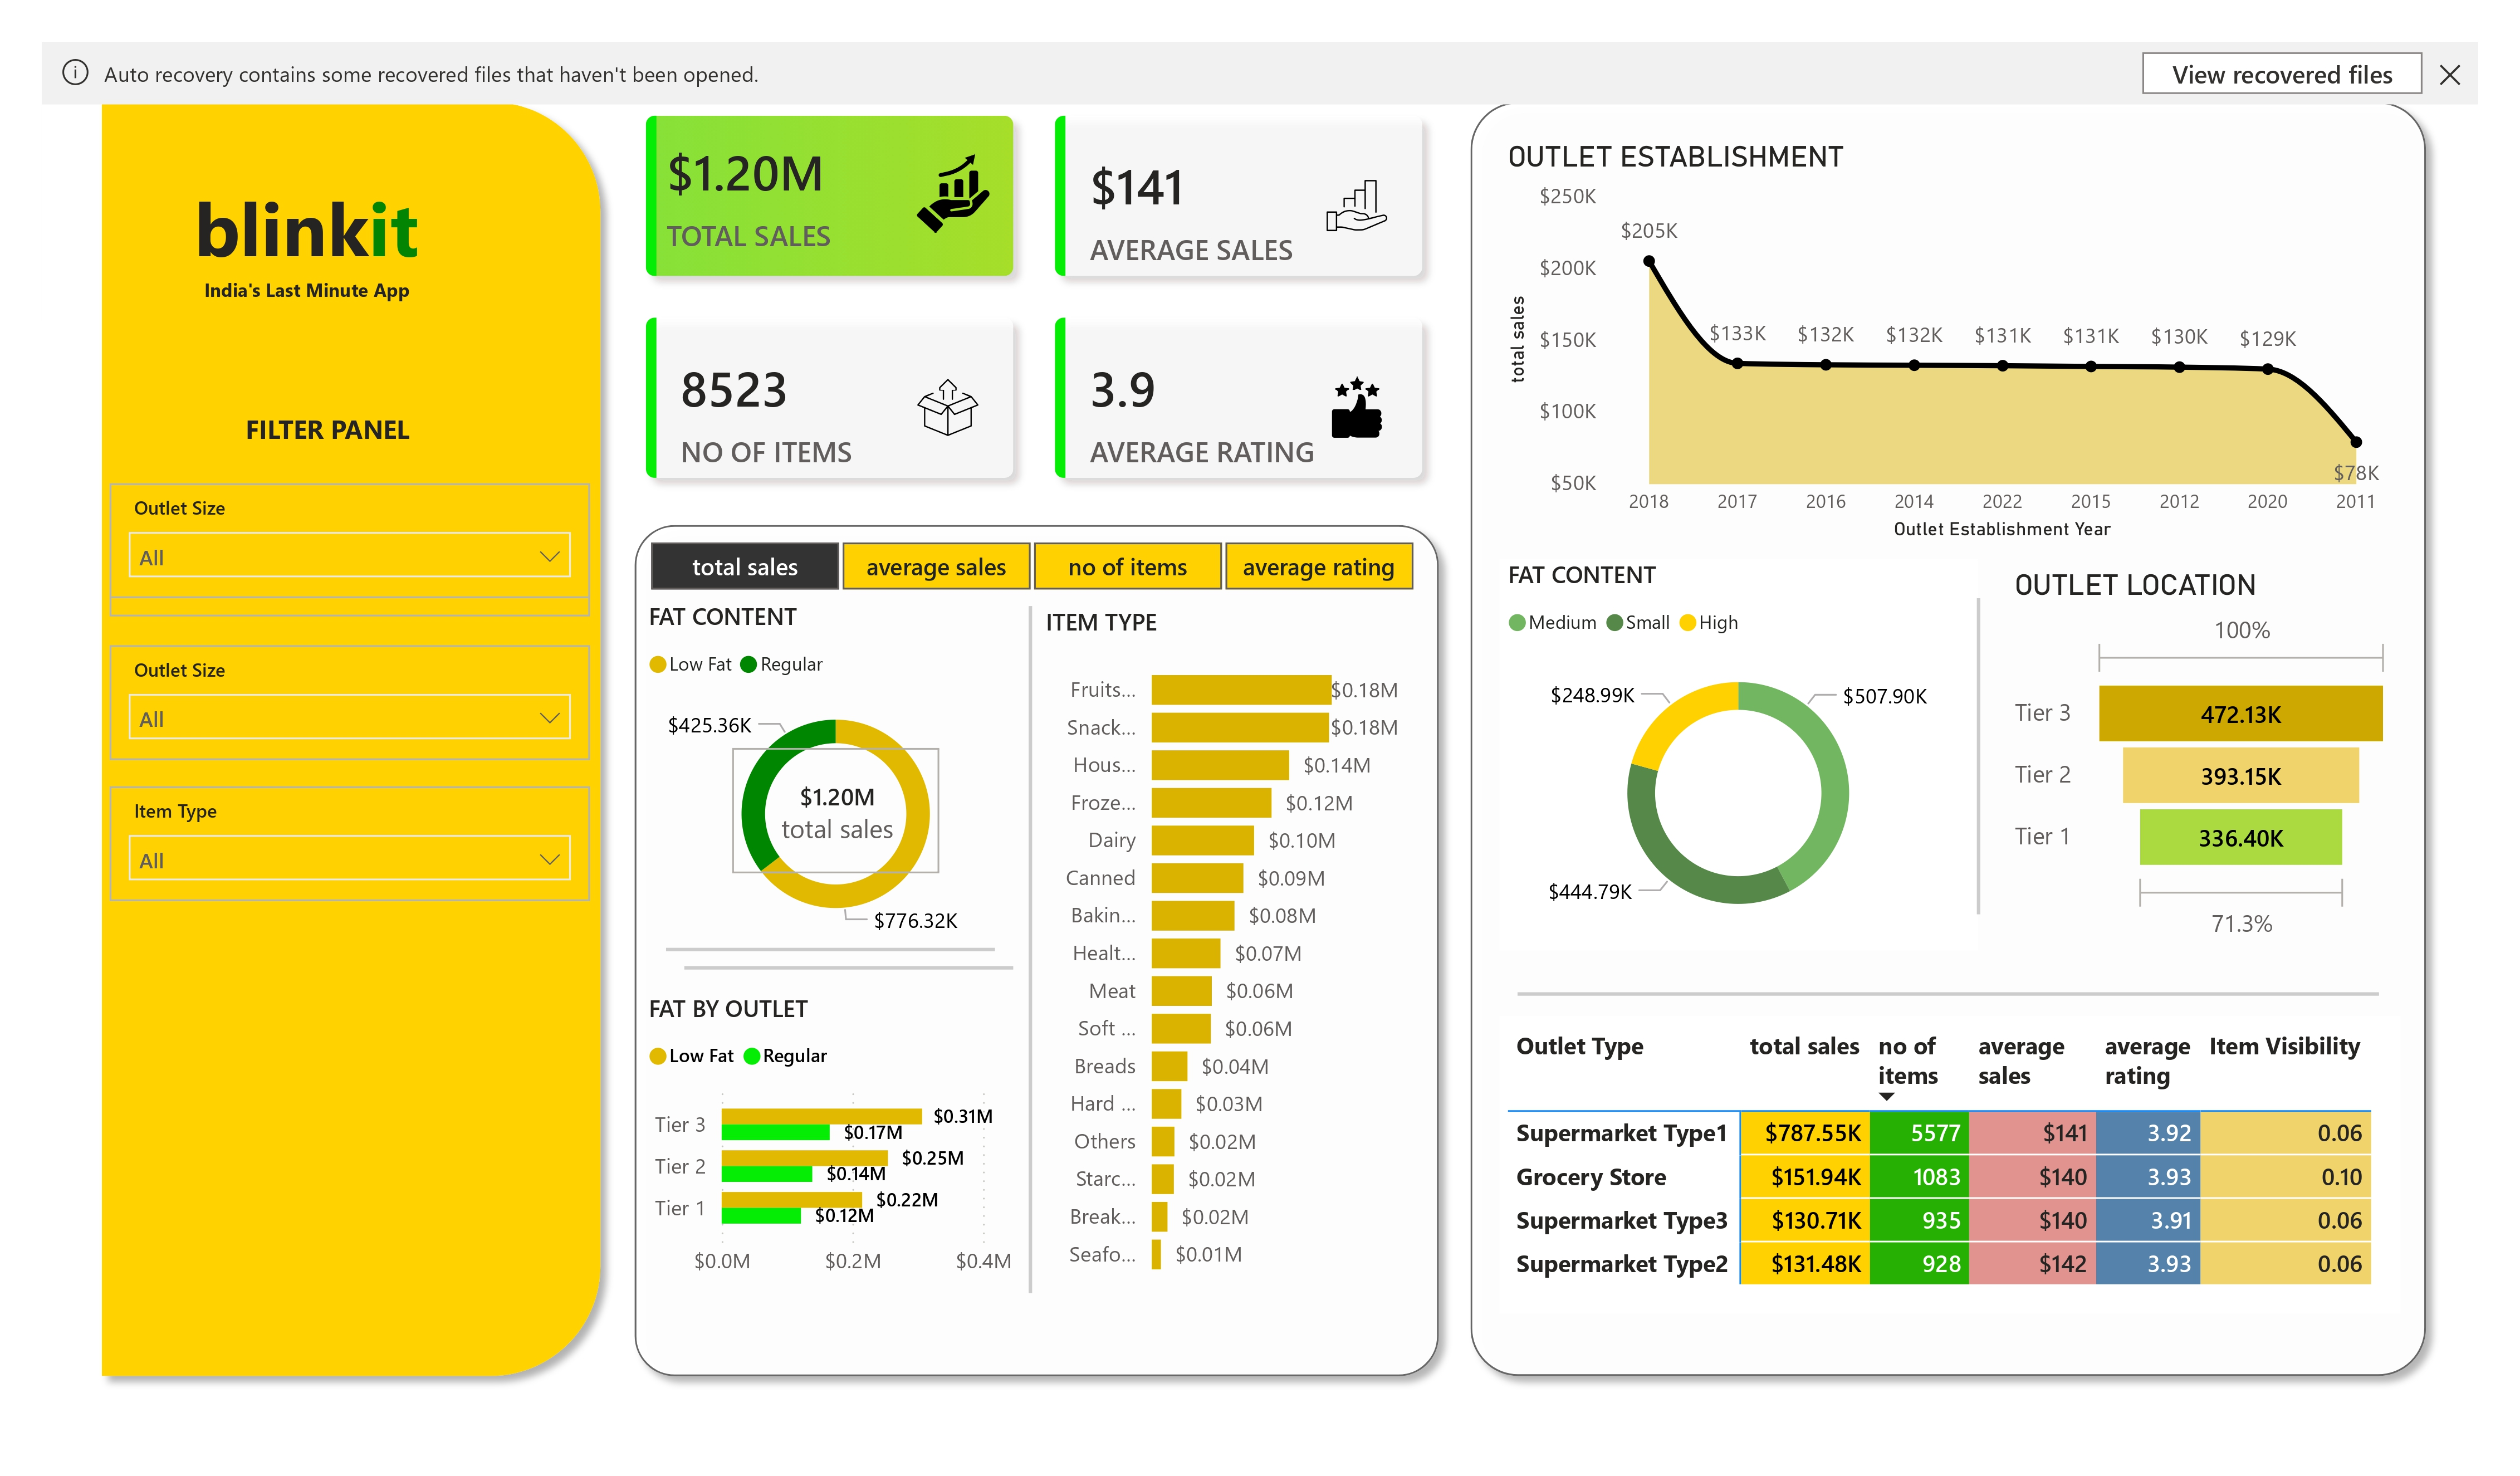

Layout of this report page (visuals, bound fields, positions):
{"tool":"powerbi","page":{"name":"Page 1","canvas":[1400,800],"ordinal":0},"visuals":[{"type":"shape","box":[25.5,25.5,304.7,750.4],"z":0},{"type":"textbox","box":[82.5,72,163.6,78],"z":1000},{"type":"textbox","box":[58.5,127.6,187.6,46.5],"z":2000},{"type":"cardVisual","fields":{"Data":["BlinkIT Grocery Data.total sales","BlinkIT Grocery Data.average sales","BlinkIT Grocery Data.no of items","BlinkIT Grocery Data.average rating"]},"box":[330.2,25.5,481.8,243.1],"z":3000},{"type":"shape","box":[331.7,268.7,480.3,507.3],"z":4000},{"type":"donutChart","title":"FAT CONTENT","fields":{"Y":["BlinkIT Grocery Data.total sales"],"Category":["BlinkIT Grocery Data.Item Fat Content"]},"box":[343.7,321.2,225.1,201.1],"z":5000},{"type":"slicer","fields":{"Values":["Metrics.Metrics"]},"box":[324.2,280.7,487.8,40.5],"z":6000},{"type":"cardVisual","fields":{"Data":["BlinkIT Grocery Data.total sales"]},"box":[391.7,400.7,129.1,82.5],"z":7000},{"type":"clusteredBarChart","title":"FAT BY OUTLET","fields":{"Y":["BlinkIT Grocery Data.total sales"],"Category":["BlinkIT Grocery Data.Outlet Location Type"],"Series":["BlinkIT Grocery Data.Item Fat Content"]},"box":[343.7,546.3,225.1,172.6],"z":8000},{"type":"shape","box":[358.7,483.3,189.1,76.5],"z":9000},{"type":"shape","box":[453.3,324.2,229.6,394.7],"z":10000},{"type":"barChart","title":"ITEM TYPE","fields":{"Y":["BlinkIT Grocery Data.total sales"],"Category":["BlinkIT Grocery Data.Item Type"]},"box":[571.8,324.2,213.1,394.7],"z":11000},{"type":"shape","box":[812,25.5,567.3,750.4],"z":12000},{"type":"lineChart","title":"OUTLET ESTABLISHMENT","fields":{"Y":["BlinkIT Grocery Data.total sales"],"Category":["BlinkIT Grocery Data.Outlet Establishment Year"]},"box":[837.5,55.5,517.8,235.6],"z":13000},{"type":"donutChart","title":"FAT CONTENT","fields":{"Y":["BlinkIT Grocery Data.total sales"],"Category":["BlinkIT Grocery Data.Outlet Size"]},"box":[837.5,297.2,274.7,225.1],"z":14000},{"type":"shape","box":[1064.1,319.7,97.6,181.6],"z":15000},{"type":"funnel","title":"OUTLET LOCATION","fields":{"Y":["Sum(BlinkIT Grocery Data.Sales)"],"Category":["BlinkIT Grocery Data.Outlet Location Type"]},"box":[1128.6,301.7,226.6,220.6],"z":16000},{"type":"shape","box":[848,534.3,495.3,25.5],"z":17000},{"type":"pivotTable","fields":{"Rows":["BlinkIT Grocery Data.Outlet Type"],"Values":["BlinkIT Grocery Data.total sales","BlinkIT Grocery Data.no of items","BlinkIT Grocery Data.average sales","BlinkIT Grocery Data.average rating","Avg(BlinkIT Grocery Data.Item Visibility)"]},"box":[837.5,559.8,517.8,171.1],"z":18000},{"type":"slicer","fields":{"Values":["BlinkIT Grocery Data.Outlet Location Type"]},"box":[39,264.2,276.2,66],"z":19000},{"type":"shape","box":[368.7,493.3,189.1,76.5],"z":20000},{"type":"slicer","fields":{"Values":["BlinkIT Grocery Data.Outlet Size"]},"box":[39,346.7,276.2,66],"z":21000},{"type":"slicer","fields":{"Values":["BlinkIT Grocery Data.Item Type"]},"box":[39,427.7,276.2,66],"z":22000},{"type":"slicer","fields":{"Values":["BlinkIT Grocery Data.Outlet Size"]},"box":[39,253.6,276.2,66],"z":22001},{"type":"textbox","box":[70.5,207.1,187.6,46.5],"z":22002}]}

Visuals, with their boxes on the page's 1400x800 design canvas (x1, y1, x2, y2). These are canvas units, not pixel positions in the 2520x1476 screenshot, which may show the page scaled, cropped or inside an application window:
shape: 26:26:330:776
textbox: 82:72:246:150
textbox: 58:128:246:174
cardVisual - BlinkIT Grocery Data.total sales x BlinkIT Grocery Data.average sales: 330:26:812:269
shape: 332:269:812:776
"FAT CONTENT" donutChart: 344:321:569:522
slicer - Metrics.Metrics: 324:281:812:321
cardVisual - BlinkIT Grocery Data.total sales: 392:401:521:483
"FAT BY OUTLET" clusteredBarChart: 344:546:569:719
shape: 359:483:548:560
shape: 453:324:683:719
"ITEM TYPE" barChart: 572:324:785:719
shape: 812:26:1379:776
"OUTLET ESTABLISHMENT" lineChart: 838:56:1355:291
"FAT CONTENT" donutChart: 838:297:1112:522
shape: 1064:320:1162:501
"OUTLET LOCATION" funnel: 1129:302:1355:522
shape: 848:534:1343:560
pivotTable - BlinkIT Grocery Data.Outlet Type x BlinkIT Grocery Data.total sales: 838:560:1355:731
slicer - BlinkIT Grocery Data.Outlet Location Type: 39:264:315:330
shape: 369:493:558:570
slicer - BlinkIT Grocery Data.Outlet Size: 39:347:315:413
slicer - BlinkIT Grocery Data.Item Type: 39:428:315:494
slicer - BlinkIT Grocery Data.Outlet Size: 39:254:315:320
textbox: 70:207:258:254
